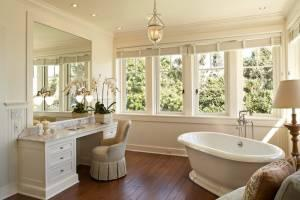window: (116, 45, 280, 118)
